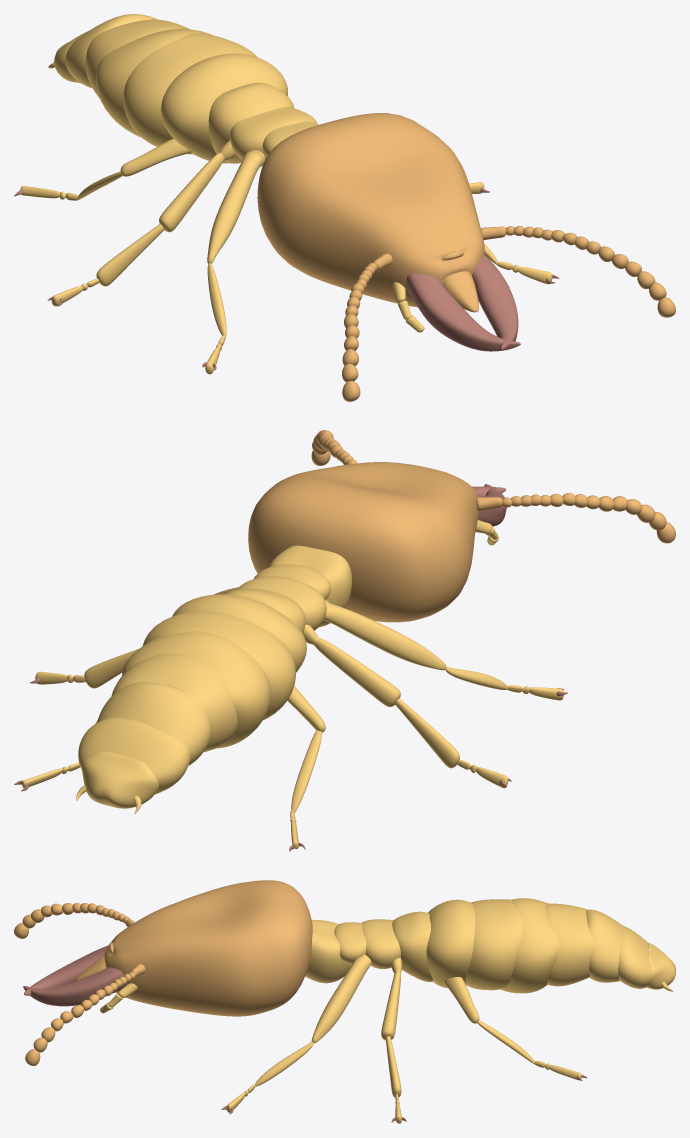
Rendered from termite-transformed.glb.
3 renders of one model, top to bottom at view 1: azimuth 30°, elevation 25°; view 2: azimuth 150°, elevation 25°; view 3: azimuth 270°, elevation 25°, orthographic. The views are drawn at different scales.
Visible parts, largest first — view 1: Object_7, Object_19, Object_2, Object_20.001, Object_18.001, Object_23, Object_12.001, Object_5, Object_13, Object_16.001, Object_6.001, Object_8.001 (+2 smaller); view 2: Object_7, Object_20.001, Object_19, Object_22.001, Object_16.001, Object_23, Object_17, Object_18.001, Object_12.001, Object_21, Object_13, Object_5 (+6 smaller); view 3: Object_7, Object_19, Object_20.001, Object_18.001, Object_17, Object_2, Object_23, Object_16.001, Object_22.001, Object_5, Object_12.001, Object_21 (+4 smaller).
Part boxes in pixels (bbox=[...]): Object_7: bbox=[257, 113, 588, 312]; Object_19: bbox=[123, 33, 287, 163]; Object_2: bbox=[406, 254, 559, 351]; Object_20.001: bbox=[85, 19, 212, 137]; Object_18.001: bbox=[208, 82, 317, 163]; Object_23: bbox=[207, 150, 497, 335]; Object_12.001: bbox=[120, 138, 236, 232]; Object_5: bbox=[342, 241, 666, 365]; Object_13: bbox=[77, 171, 552, 286]; Object_16.001: bbox=[65, 14, 424, 332]; Object_6.001: bbox=[342, 226, 675, 401]; Object_8.001: bbox=[349, 226, 576, 300]; Object_7: bbox=[248, 438, 478, 622]; Object_20.001: bbox=[111, 631, 270, 752]; Object_19: bbox=[143, 594, 306, 720]; Object_22.001: bbox=[78, 717, 190, 808]; Object_16.001: bbox=[97, 536, 498, 765]; Object_23: bbox=[214, 587, 508, 689]; Object_17: bbox=[254, 545, 352, 627]; Object_18.001: bbox=[225, 576, 326, 633]; Object_12.001: bbox=[95, 624, 400, 732]; Object_21: bbox=[78, 717, 190, 794]; Object_13: bbox=[291, 698, 459, 812]; Object_5: bbox=[312, 430, 655, 522]; Object_7: bbox=[76, 880, 312, 1016]; Object_19: bbox=[426, 899, 522, 990]; Object_20.001: bbox=[500, 898, 593, 993]; Object_18.001: bbox=[361, 911, 433, 981]; Object_17: bbox=[305, 919, 366, 983]; Object_2: bbox=[23, 945, 233, 1114]; Object_23: bbox=[255, 954, 371, 1086]; Object_16.001: bbox=[586, 909, 623, 982]; Object_22.001: bbox=[618, 926, 675, 989]; Object_5: bbox=[31, 903, 92, 1052]; Object_12.001: bbox=[444, 977, 534, 1064]; Object_21: bbox=[100, 927, 652, 1013].
Bounding box in the file's own units: 1.06 × 0.4158 × 1.7.
